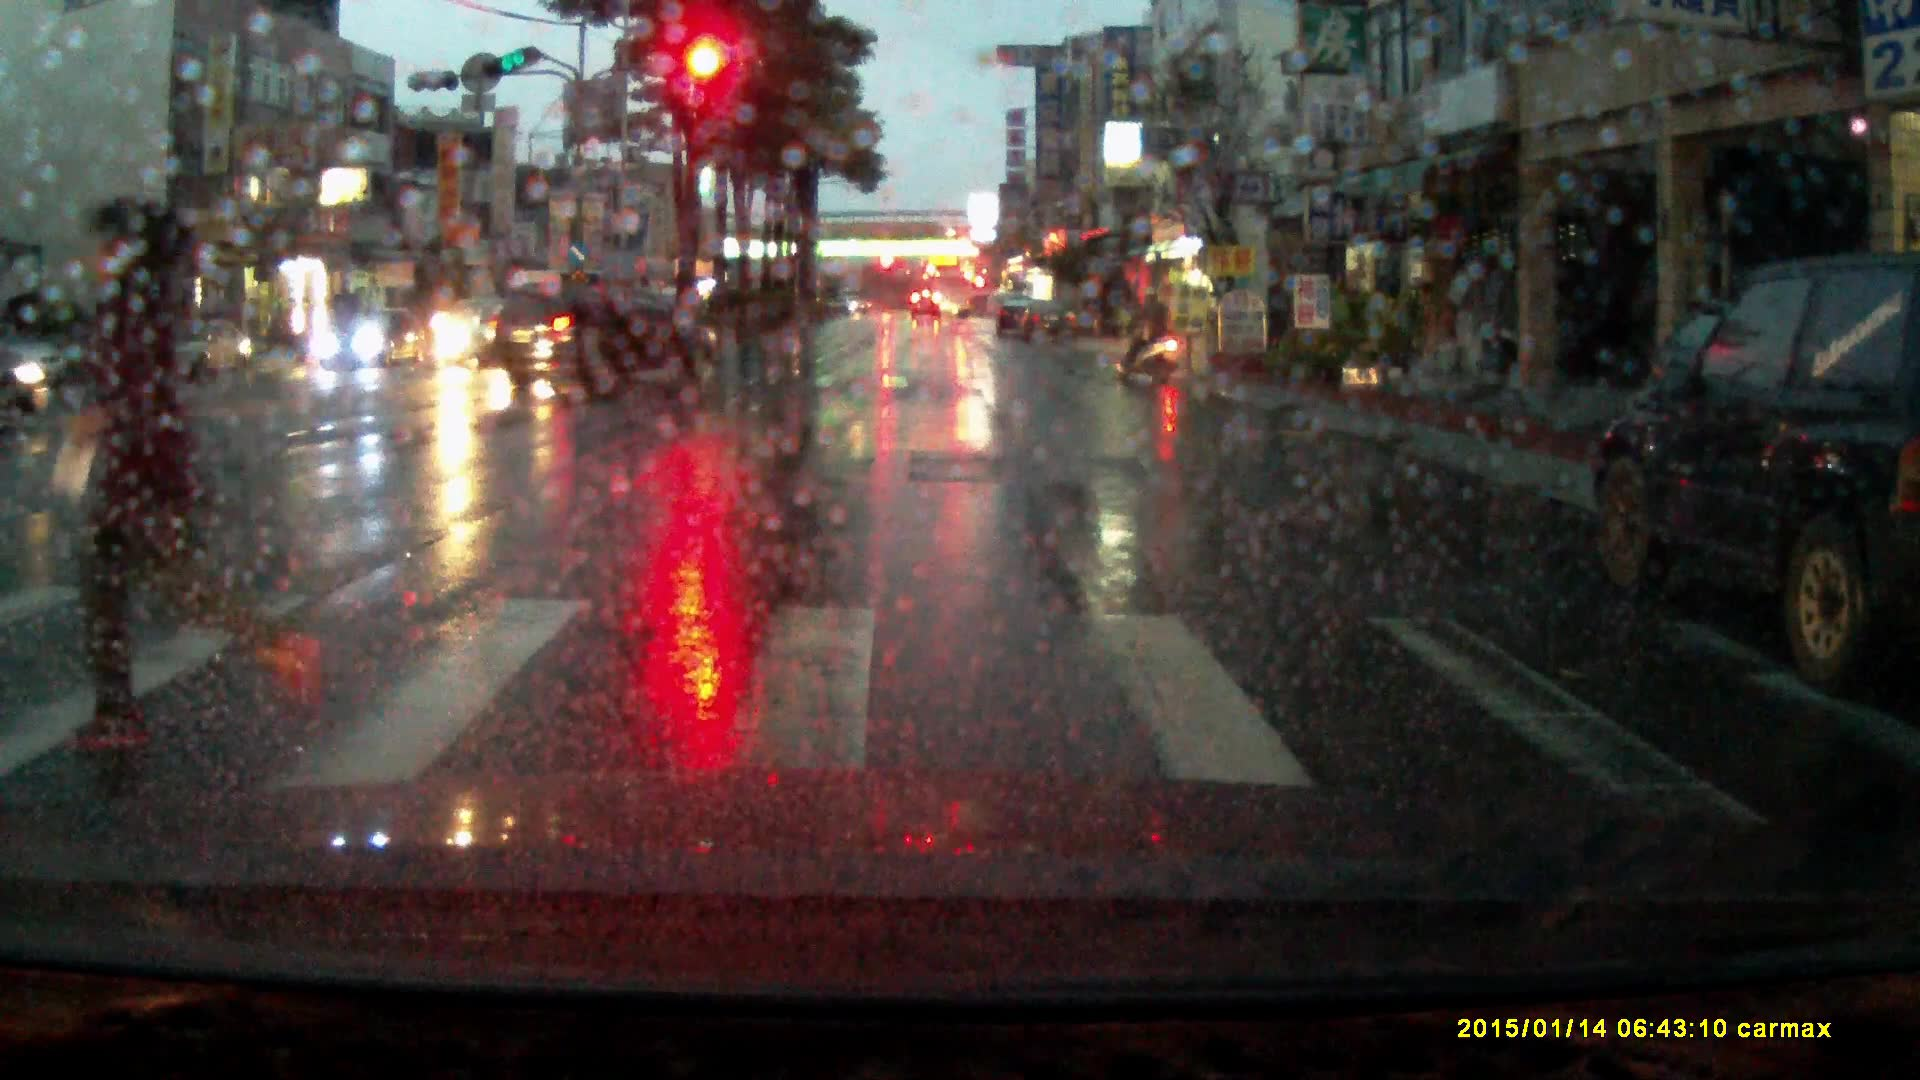pedestrian: (48, 187, 341, 756)
rider: (1122, 278, 1190, 386)
vehicle: (1582, 248, 1920, 683), (480, 283, 721, 398), (317, 304, 429, 373), (142, 314, 253, 380), (494, 268, 591, 341), (574, 288, 664, 340), (1, 348, 48, 431), (1017, 300, 1079, 346), (931, 264, 973, 321), (995, 295, 1030, 338), (911, 291, 943, 322)
